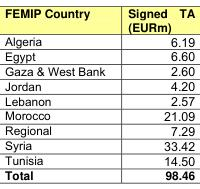table: (4, 4, 194, 182)
table column: (4, 4, 115, 182), (115, 4, 194, 182)
table column header: (4, 4, 194, 34)
table row: (4, 4, 194, 34), (4, 48, 194, 63), (4, 63, 194, 78), (4, 78, 194, 93), (4, 93, 194, 108), (4, 108, 194, 123), (4, 123, 194, 138), (4, 138, 194, 153), (4, 167, 194, 182), (4, 34, 194, 48), (4, 153, 194, 167)
